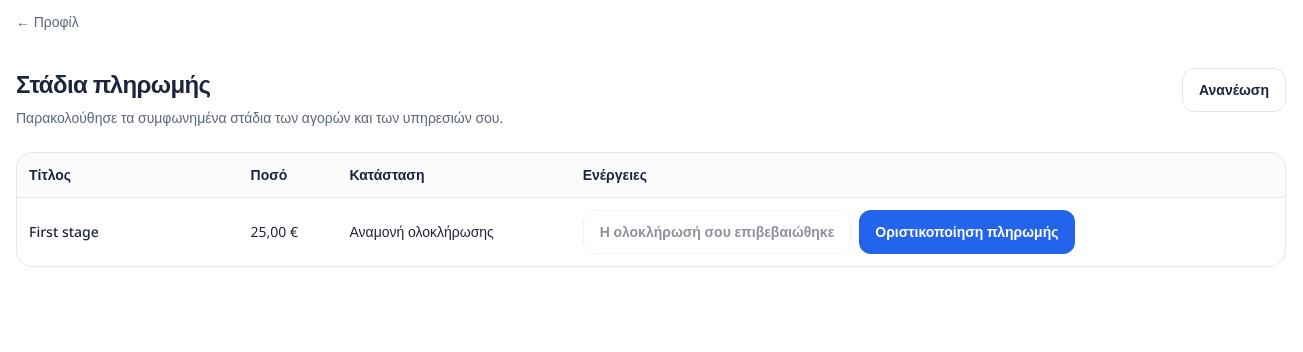
Test: Milestone reliability › localizes the status and reports accepted capture without claiming settlement
This screenshot has width=1303, height=352.
Check: the text "Αναμονή ολοκλήρωσης" is shown, box left=338, top=198, right=571, bottom=266
Click the button "Οριστικοποίηση πληρωμής" at {"x": 967, "y": 232}, box left=859, top=210, right=1074, bottom=254
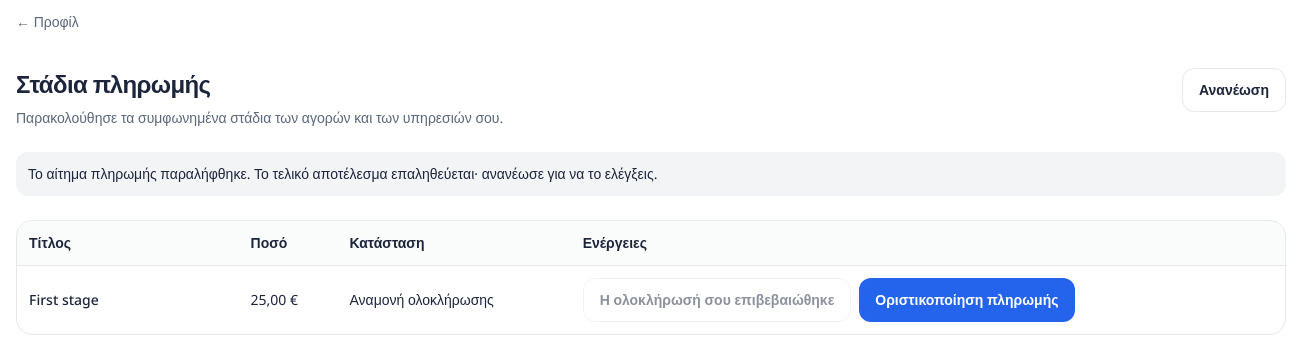
Check: the text "Αναμονή ολοκλήρωσης" is shown, box left=338, top=266, right=571, bottom=334
Check: the message shows "επαληθεύεται", box left=28, top=164, right=658, bottom=183
